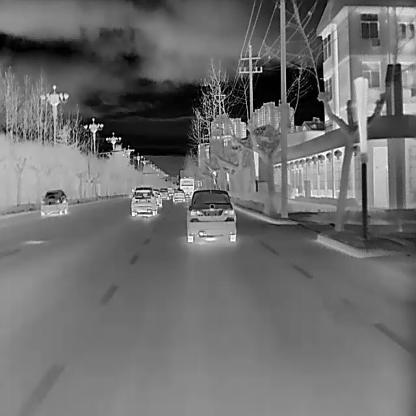car: (186, 189, 236, 242), (130, 187, 156, 216), (40, 189, 68, 215), (179, 177, 194, 198), (151, 189, 162, 207), (172, 190, 185, 204), (158, 188, 169, 200)
